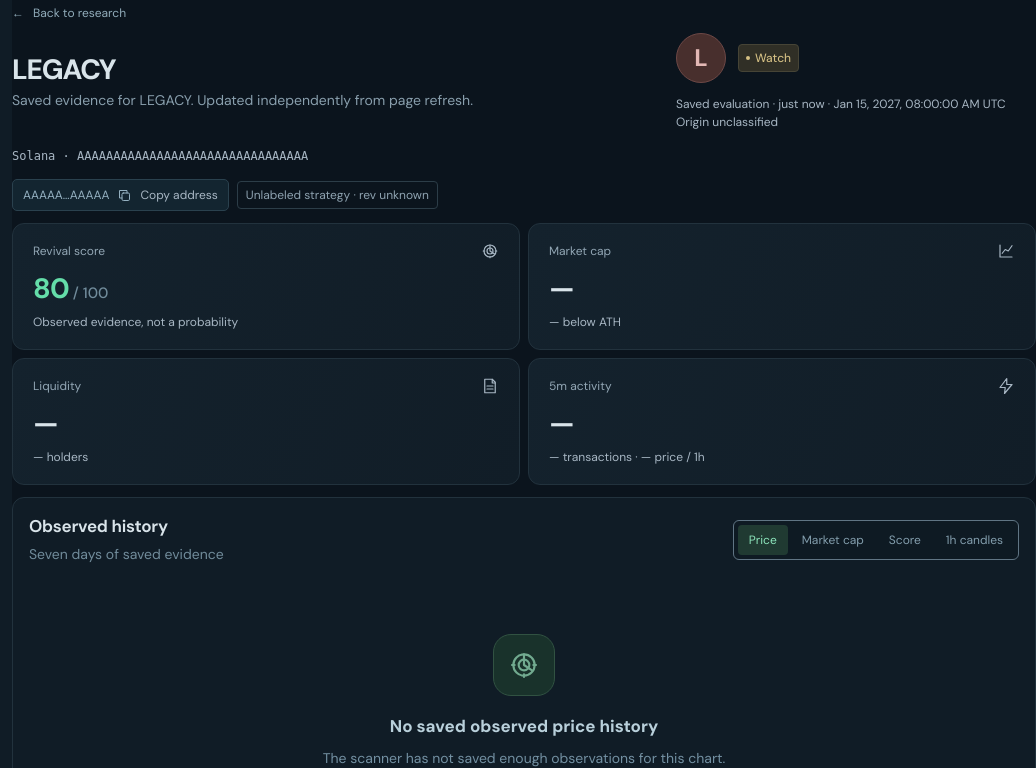
Test: exposes the exact contract and reports clipboard failures
The width and height of the screenshot is (1036, 768).
Click the button "AAAAA…AAAAA Copy address".
click(120, 195)  # box [12,179,229,211]
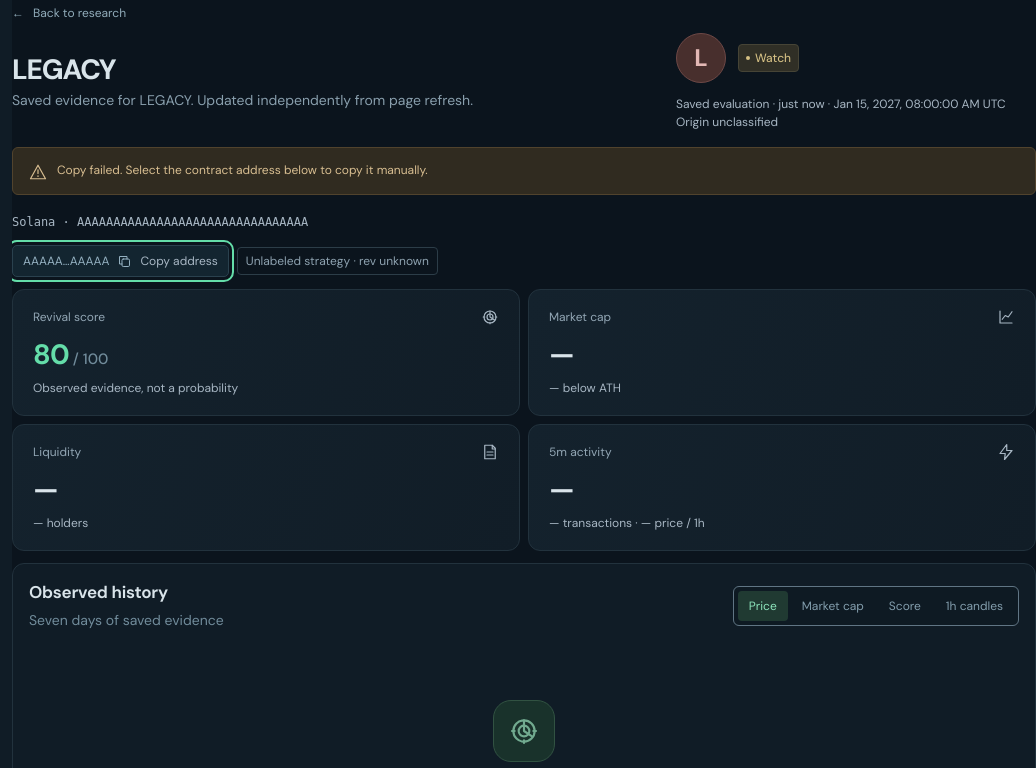
Result: the text "Copy failed" is shown at [57,162,428,178]
